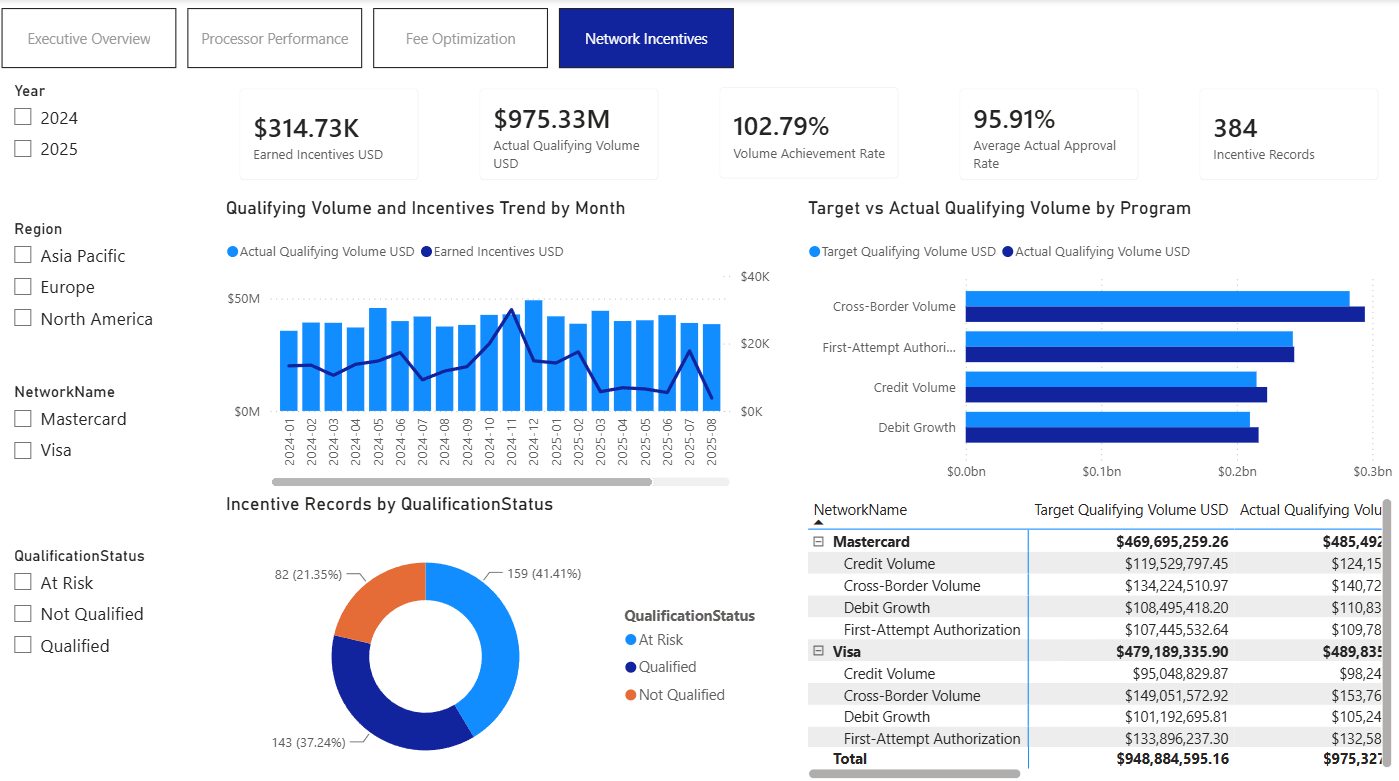

Layout of this report page (visuals, bound fields, positions):
{"tool":"powerbi","page":{"name":"Network Incentives","canvas":[1280,720],"ordinal":3},"visuals":[{"type":"slicer","fields":{"Values":["DimMarket.Region"]},"box":[0,196.6,201.1,149.3],"z":0},{"type":"slicer","fields":{"Values":["DimNetwork.NetworkName"]},"box":[0,345.9,201.1,149.3],"z":1000},{"type":"slicer","fields":{"Values":["FactNetworkIncentives.QualificationStatus"]},"box":[0,495.2,201.1,149.3],"z":2000},{"type":"cardVisual","fields":{"Data":["AllMeasures.Earned Incentives USD"]},"box":[201.1,64,198.1,118.9],"z":3000},{"type":"cardVisual","fields":{"Data":["AllMeasures.Actual Qualifying Volume USD"]},"box":[421,64,198,118.9],"z":4000},{"type":"cardVisual","fields":{"Data":["AllMeasures.Volume Achievement Rate"]},"box":[640.8,62.5,198,118.4],"z":5000},{"type":"cardVisual","fields":{"Data":["AllMeasures.Average Actual Approval Rate"]},"box":[860.6,64,198,118.4],"z":6000},{"type":"cardVisual","fields":{"Data":["AllMeasures.Incentive Records"]},"box":[1080.4,64,198,118.4],"z":7000},{"type":"lineStackedColumnComboChart","title":"Qualifying Volume and Incentives Trend by Month","fields":{"Category":["DimDate.Year Month"],"Y":["AllMeasures.Actual Qualifying Volume USD"],"Y2":["AllMeasures.Earned Incentives USD"]},"box":[201.1,181.3,507.4,269.7],"z":8000},{"type":"clusteredBarChart","title":"Target vs Actual Qualifying Volume by Program","fields":{"Category":["FactNetworkIncentives.Program"],"Y":["AllMeasures.Target Qualifying Volume USD","AllMeasures.Actual Qualifying Volume USD"]},"box":[734.5,181.3,544,269.7],"z":9000},{"type":"donutChart","fields":{"Category":["FactNetworkIncentives.QualificationStatus"],"Y":["AllMeasures.Incentive Records"]},"box":[201.1,451,507.4,269.7],"z":10000},{"type":"pivotTable","fields":{"Rows":["DimNetwork.NetworkName","FactNetworkIncentives.Program"],"Values":["AllMeasures.Target Qualifying Volume USD","AllMeasures.Actual Qualifying Volume USD","AllMeasures.Average Actual Approval Rate","AllMeasures.Volume Achievement Rate","AllMeasures.Earned Incentives USD"]},"box":[734.5,451,544,266.7],"z":11000},{"type":"slicer","fields":{"Values":["DimDate.Year"]},"box":[0,70.1,201.1,126.5],"z":12000},{"type":"pageNavigator","box":[1.9,7.7,672.1,55.8],"z":13000}]}

Visuals, with their boxes in screenshot pixels (x1, y1, x2, y2), scaled from the page's 1280x720 canvas onto the 1399x781 screenshot:
slicer - DimMarket.Region: <region>0, 213, 220, 375</region>
slicer - DimNetwork.NetworkName: <region>0, 375, 220, 537</region>
slicer - FactNetworkIncentives.QualificationStatus: <region>0, 537, 220, 699</region>
cardVisual - AllMeasures.Earned Incentives USD: <region>220, 69, 436, 198</region>
cardVisual - AllMeasures.Actual Qualifying Volume USD: <region>460, 69, 677, 198</region>
cardVisual - AllMeasures.Volume Achievement Rate: <region>700, 68, 917, 196</region>
cardVisual - AllMeasures.Average Actual Approval Rate: <region>941, 69, 1157, 198</region>
cardVisual - AllMeasures.Incentive Records: <region>1181, 69, 1397, 198</region>
"Qualifying Volume and Incentives Trend by Month" lineStackedColumnComboChart: <region>220, 197, 774, 489</region>
"Target vs Actual Qualifying Volume by Program" clusteredBarChart: <region>803, 197, 1397, 489</region>
donutChart - FactNetworkIncentives.QualificationStatus x AllMeasures.Incentive Records: <region>220, 489, 774, 780</region>
pivotTable - DimNetwork.NetworkName x FactNetworkIncentives.Program: <region>803, 489, 1397, 779</region>
slicer - DimDate.Year: <region>0, 76, 220, 213</region>
pageNavigator: <region>2, 8, 737, 69</region>
